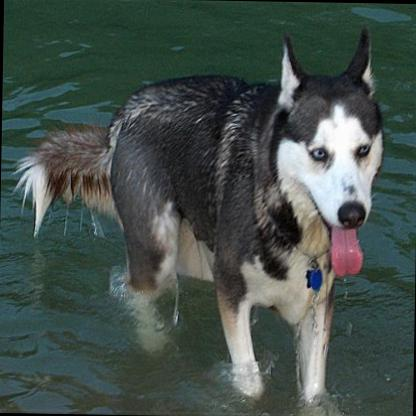Siberian_husky: (7, 20, 386, 416)
